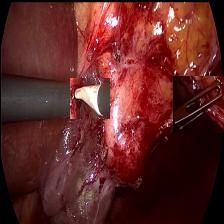Grasper: (172, 75, 224, 132)
Hook: (69, 77, 109, 118)
